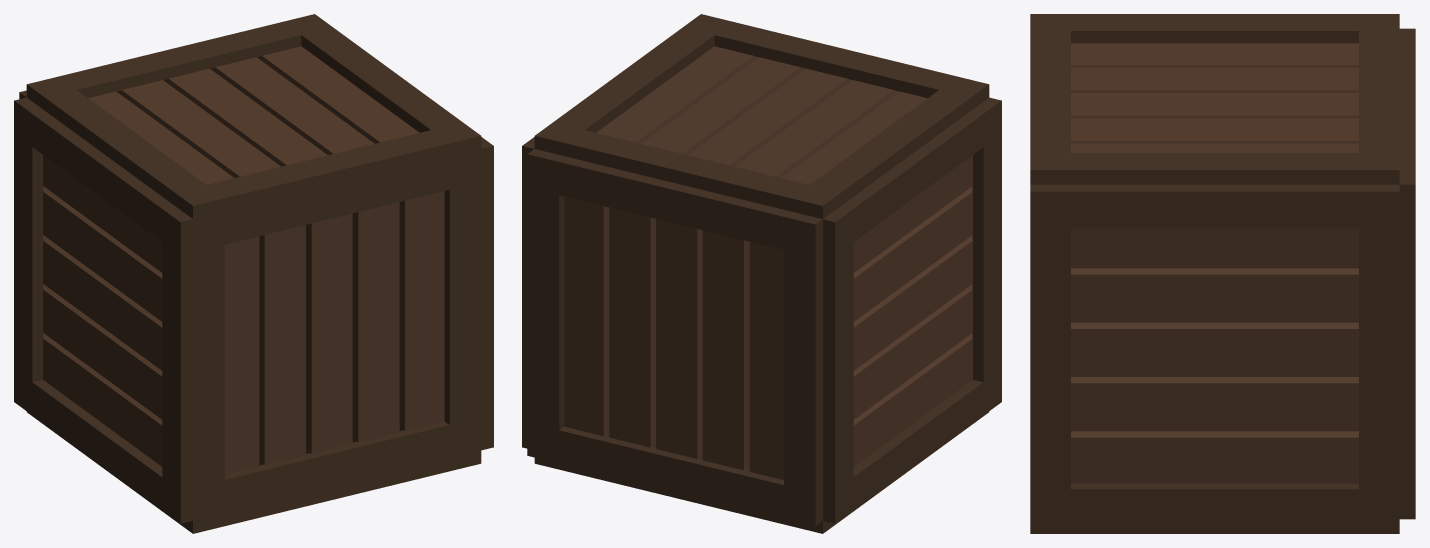
Rendered from SM_Prop_Crate_01.obj.
The picture shows the model from 3 angles, left to right: view 1: azimuth 30°, elevation 25°; view 2: azimuth 150°, elevation 25°; view 3: azimuth 270°, elevation 25°; orthographic projection. The views are drawn at different scales.
Visible parts, largest first — view 1: SM_Prop_Crate_01_Mat_SwatchOverlay_Farm_01_WoodRotated_Inst, SM_Prop_Crate_01_Mat_SwatchOverlay_Farm_01_WoodB_Inst; view 2: SM_Prop_Crate_01_Mat_SwatchOverlay_Farm_01_WoodRotated_Inst, SM_Prop_Crate_01_Mat_SwatchOverlay_Farm_01_WoodB_Inst; view 3: SM_Prop_Crate_01_Mat_SwatchOverlay_Farm_01_WoodB_Inst, SM_Prop_Crate_01_Mat_SwatchOverlay_Farm_01_WoodRotated_Inst.
Boxes of the visible parts, bbox=[...] form: SM_Prop_Crate_01_Mat_SwatchOverlay_Farm_01_WoodRotated_Inst: bbox=[14, 14, 493, 533]; SM_Prop_Crate_01_Mat_SwatchOverlay_Farm_01_WoodB_Inst: bbox=[14, 100, 180, 523]; SM_Prop_Crate_01_Mat_SwatchOverlay_Farm_01_WoodRotated_Inst: bbox=[522, 14, 1001, 533]; SM_Prop_Crate_01_Mat_SwatchOverlay_Farm_01_WoodB_Inst: bbox=[835, 100, 1001, 523]; SM_Prop_Crate_01_Mat_SwatchOverlay_Farm_01_WoodB_Inst: bbox=[1030, 191, 1399, 526]; SM_Prop_Crate_01_Mat_SwatchOverlay_Farm_01_WoodRotated_Inst: bbox=[1030, 14, 1415, 533].
Size of the model in its own units: 0.87 by 0.87 by 0.835.
2 materials, 2 textured.
